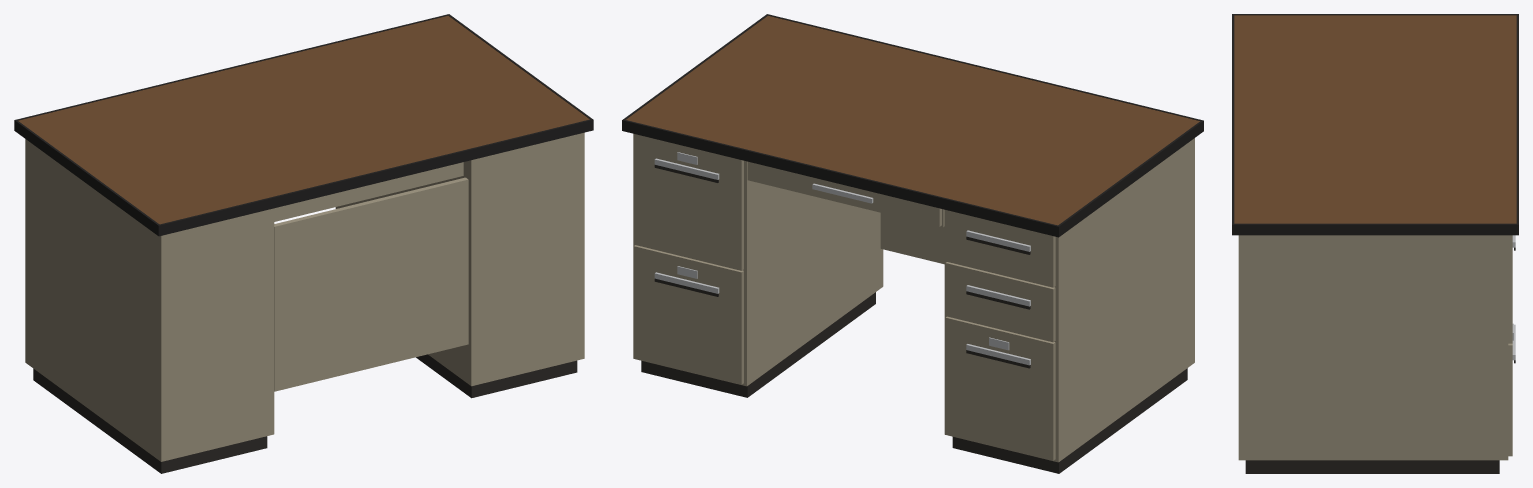
The model's file is SM_Desk80s_Plain.glb.
3 renders of one model, left to right at view 1: azimuth 30°, elevation 25°; view 2: azimuth 150°, elevation 25°; view 3: azimuth 270°, elevation 25°, orthographic.
Parts seen in each view (by area): view 1: SM_Desk80s_Plain; view 2: SM_Desk80s_Plain; view 3: SM_Desk80s_Plain.
Boxes of the visible parts, box(x1,y1,x2,y2) form: SM_Desk80s_Plain: box(14, 14, 593, 473); SM_Desk80s_Plain: box(622, 14, 1203, 473); SM_Desk80s_Plain: box(1232, 14, 1518, 473).
Size of the model in its own units: 1.77 by 0.9915 by 1.02.
